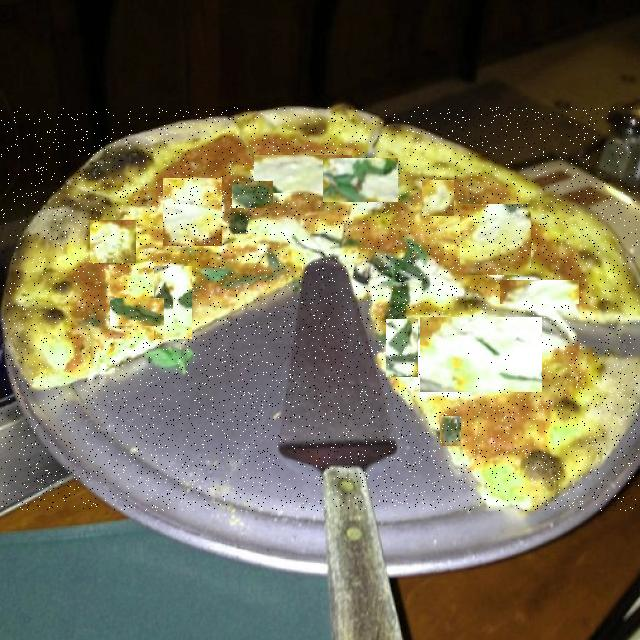Basil: (371, 245, 431, 316), (323, 158, 398, 202), (386, 319, 418, 377), (110, 298, 164, 326), (292, 232, 359, 253), (232, 181, 273, 208), (440, 416, 461, 446), (174, 293, 192, 321)
Cheese: (420, 317, 542, 392), (460, 204, 531, 275), (163, 178, 222, 246), (254, 155, 352, 193), (154, 266, 192, 339), (90, 220, 136, 263), (500, 280, 579, 304), (422, 180, 454, 216)
Pizza: (1, 107, 640, 511)
